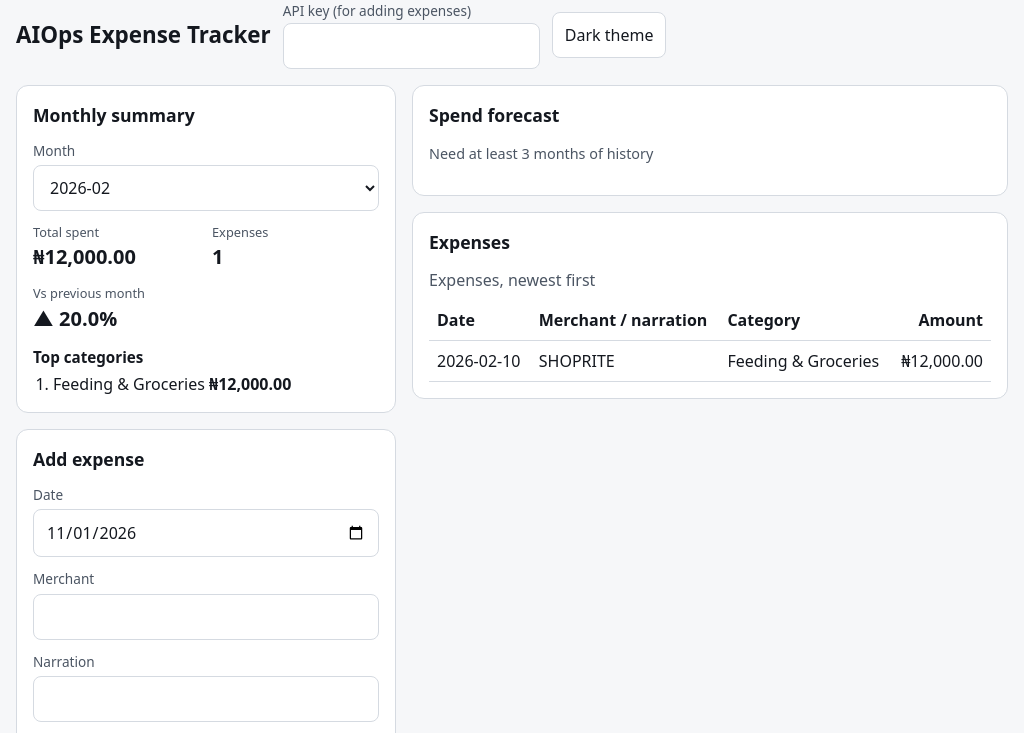
Test case: App › typed API key is sent as X-API-Key
This screenshot has width=1024, height=733.
Step 1. Type "k123" into the password field labelled "API key (for adding expenses)" → (411, 46), box [283,23,540,69]
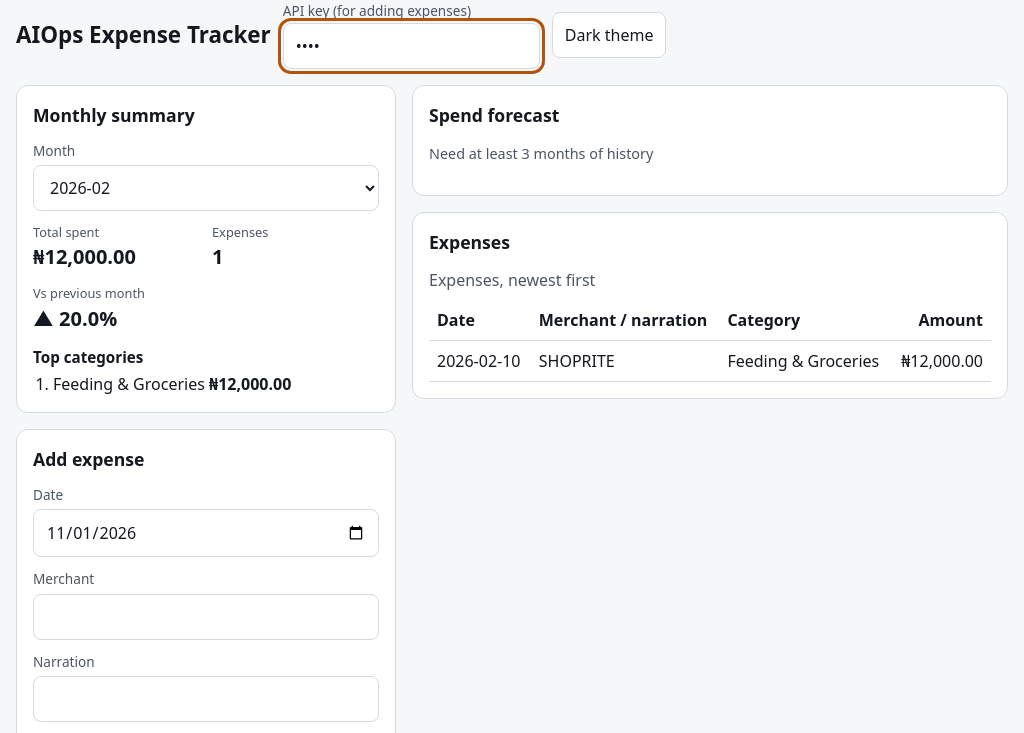
Step 2. Type "Lunch" into the field labelled "Narration" → (206, 699), box [33,676,379,722]
(page scrolled)
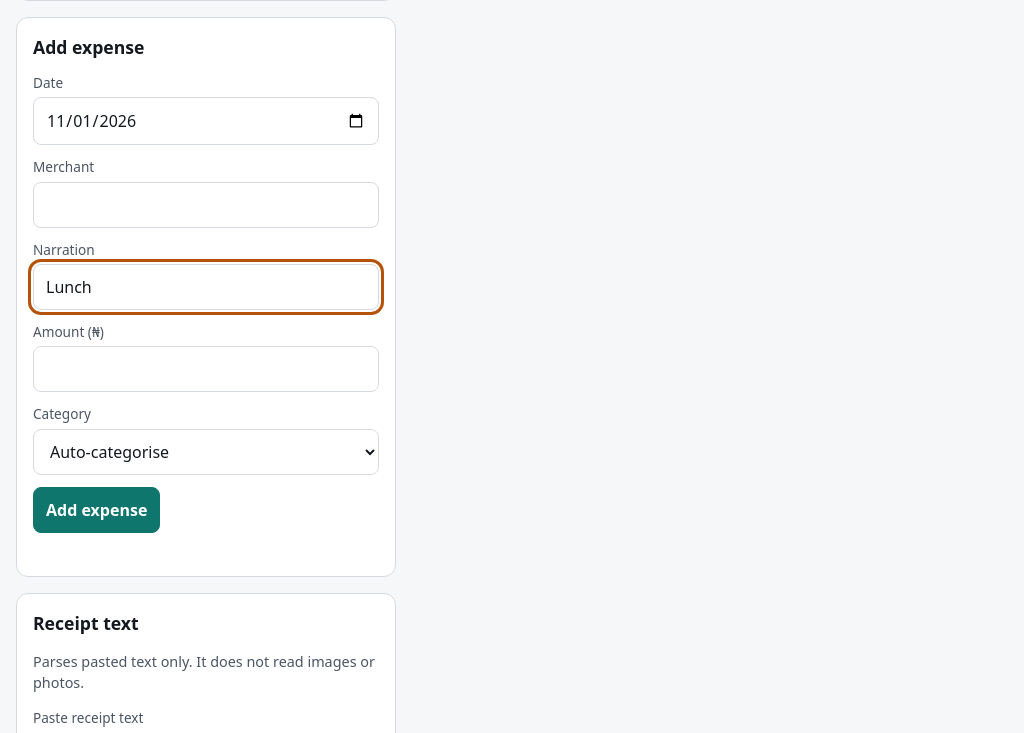
Step 3. Type "50" into the field labelled "Amount (₦)" → (206, 369), box [33,346,379,392]
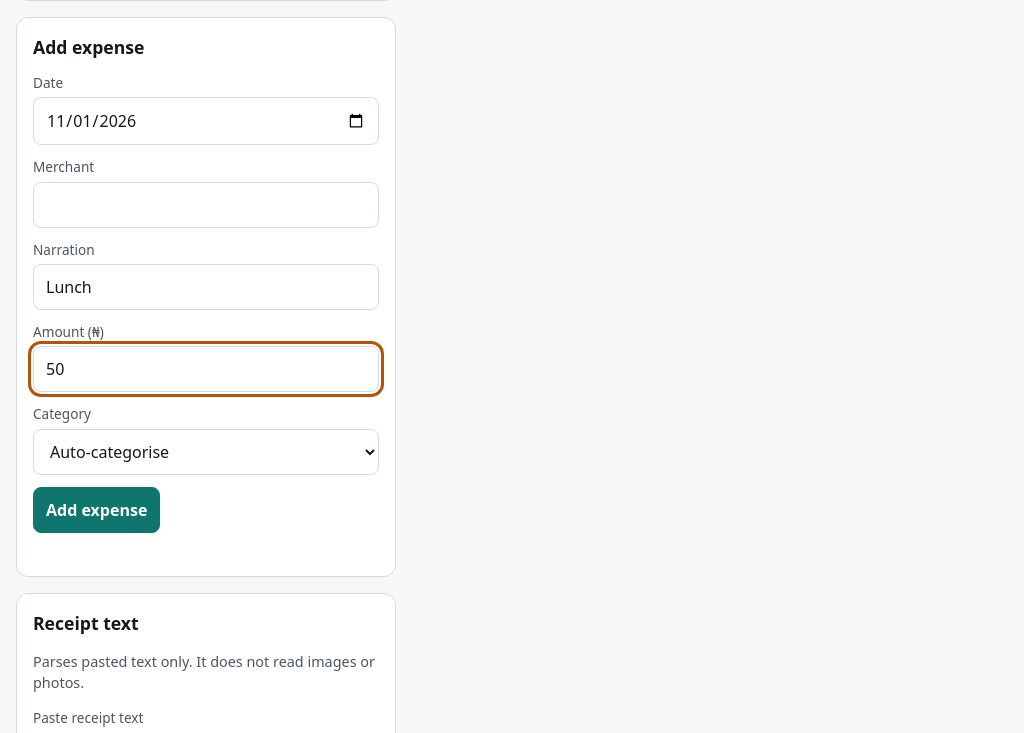
Step 4. Click the button "Add expense" → click(97, 510), box [33,487,160,533]
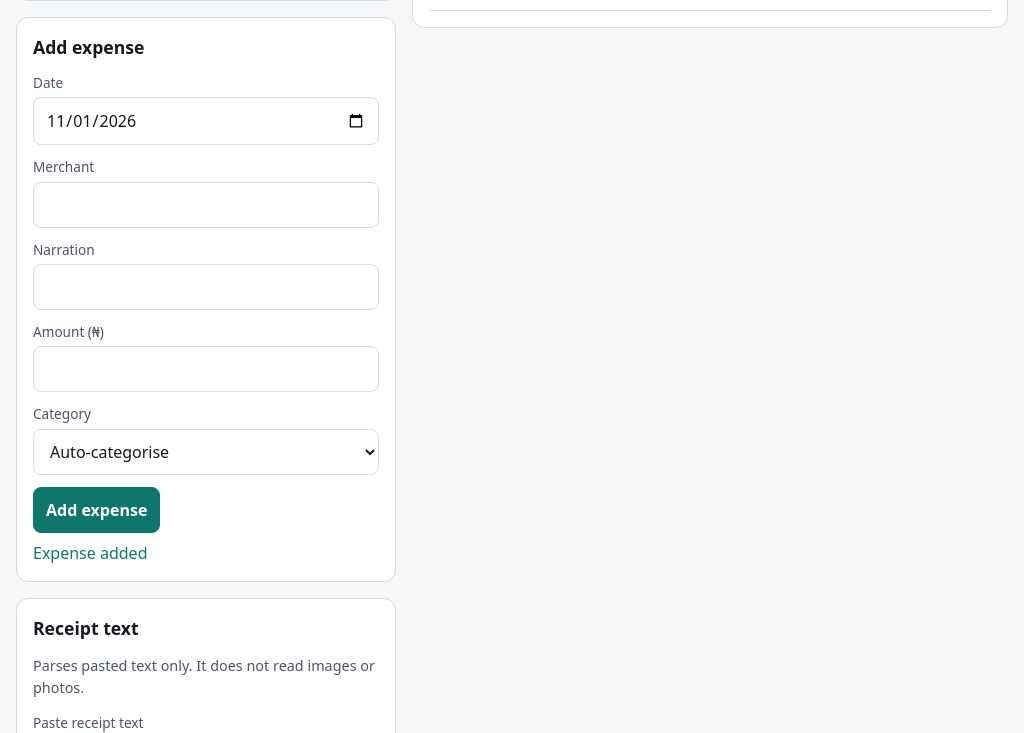
Expected: the text "Expense added" is shown, [33,542,148,564]
